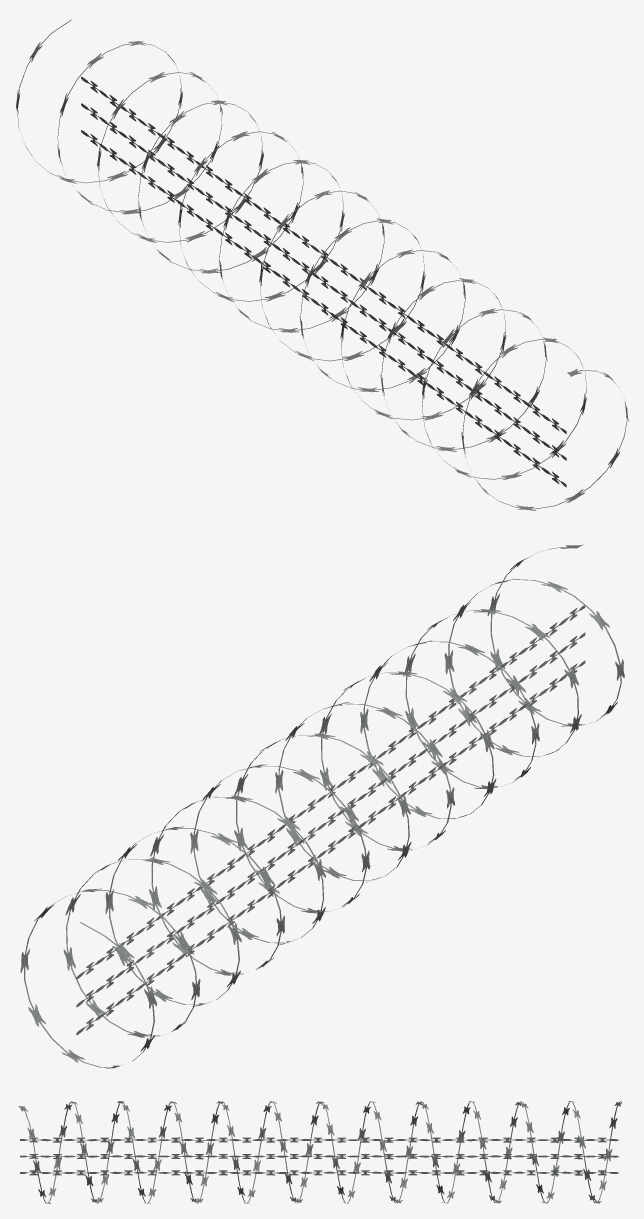
File: barbed.fbx
The picture shows the model from 3 angles, top to bottom: view 1: azimuth 30°, elevation 25°; view 2: azimuth 150°, elevation 25°; view 3: azimuth 270°, elevation 25°; orthographic projection. The views are drawn at different scales.
Visible parts, largest first — view 1: Barbed3; view 2: Barbed3; view 3: Barbed3.
Part boxes in pixels (x1,y1,x2,y2): Barbed3: (16,19,628,510); Barbed3: (20,544,624,1068); Barbed3: (18,1101,621,1203).
Size of the model in its own units: 1.05 by 1.01 by 6.03.
1 material, 1 textured.
